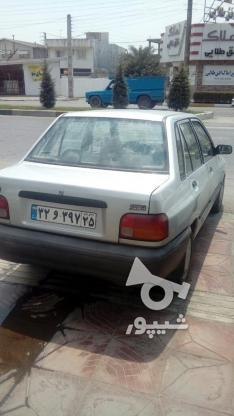car: (29, 204, 97, 230)
